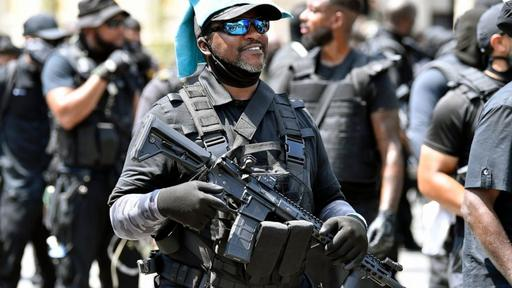Arma Real: (130, 110, 409, 288)
